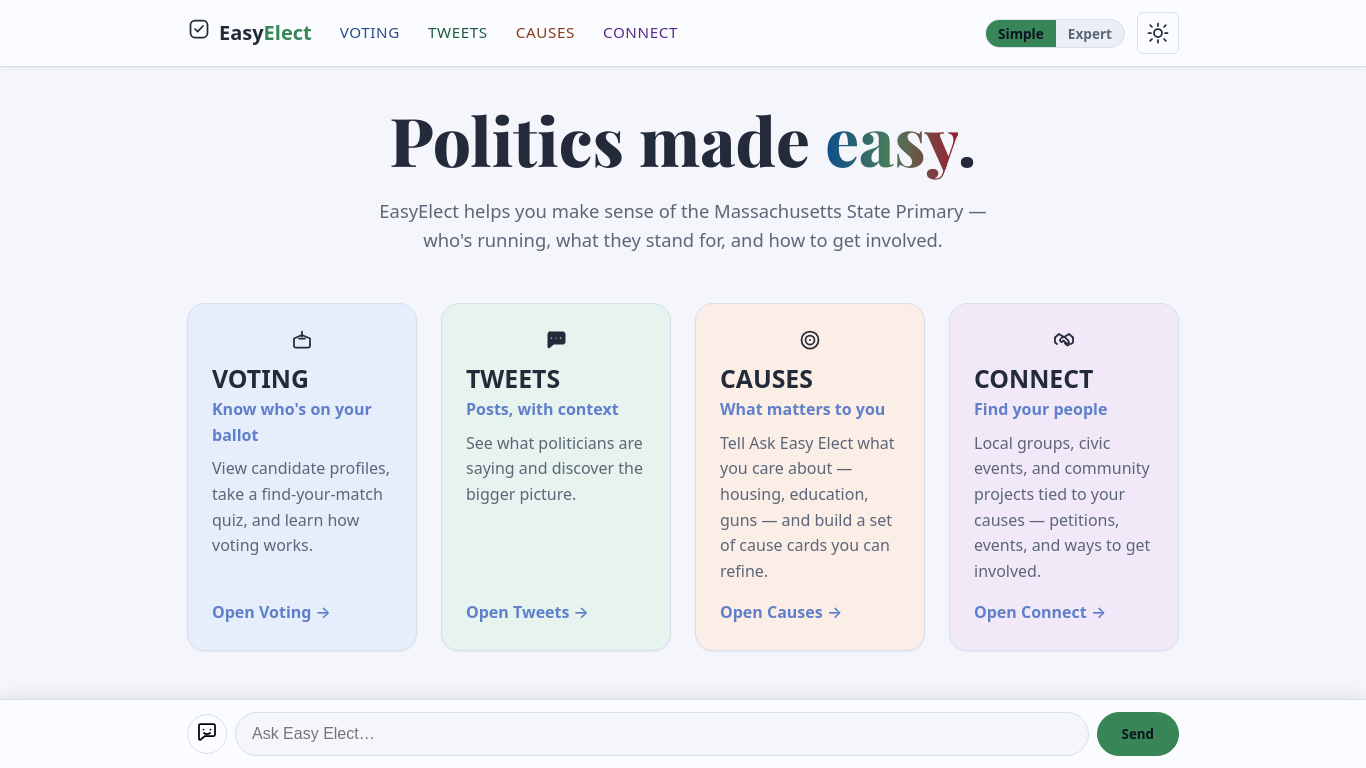
Behavior preservation — interactive controls (Req 9.2) › chatbot submit shows the user message and posts to /api/chat
The image size is (1366, 768).
Type "What is ranked choice voting?" into the field with placeholder "Ask Easy Elect…" at (662, 734), box [235, 712, 1089, 756]
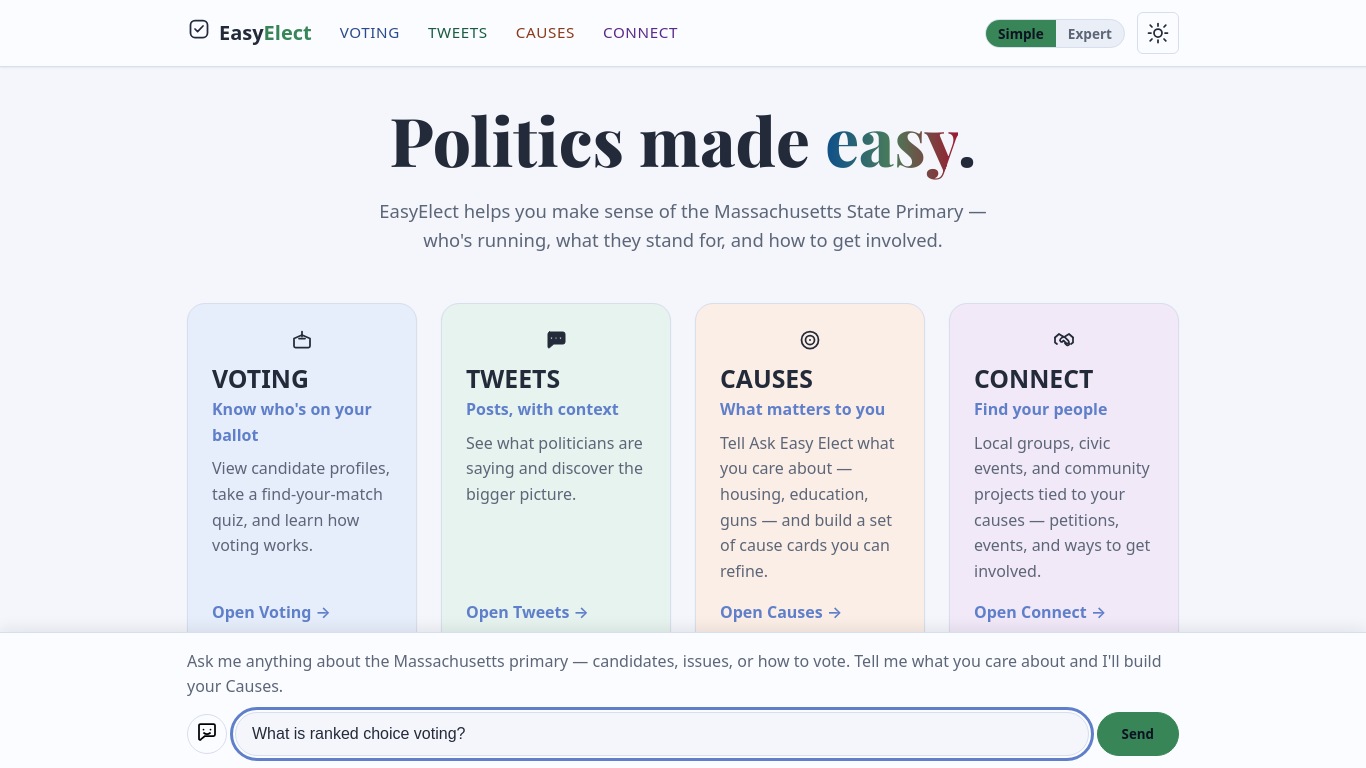
Press Enter
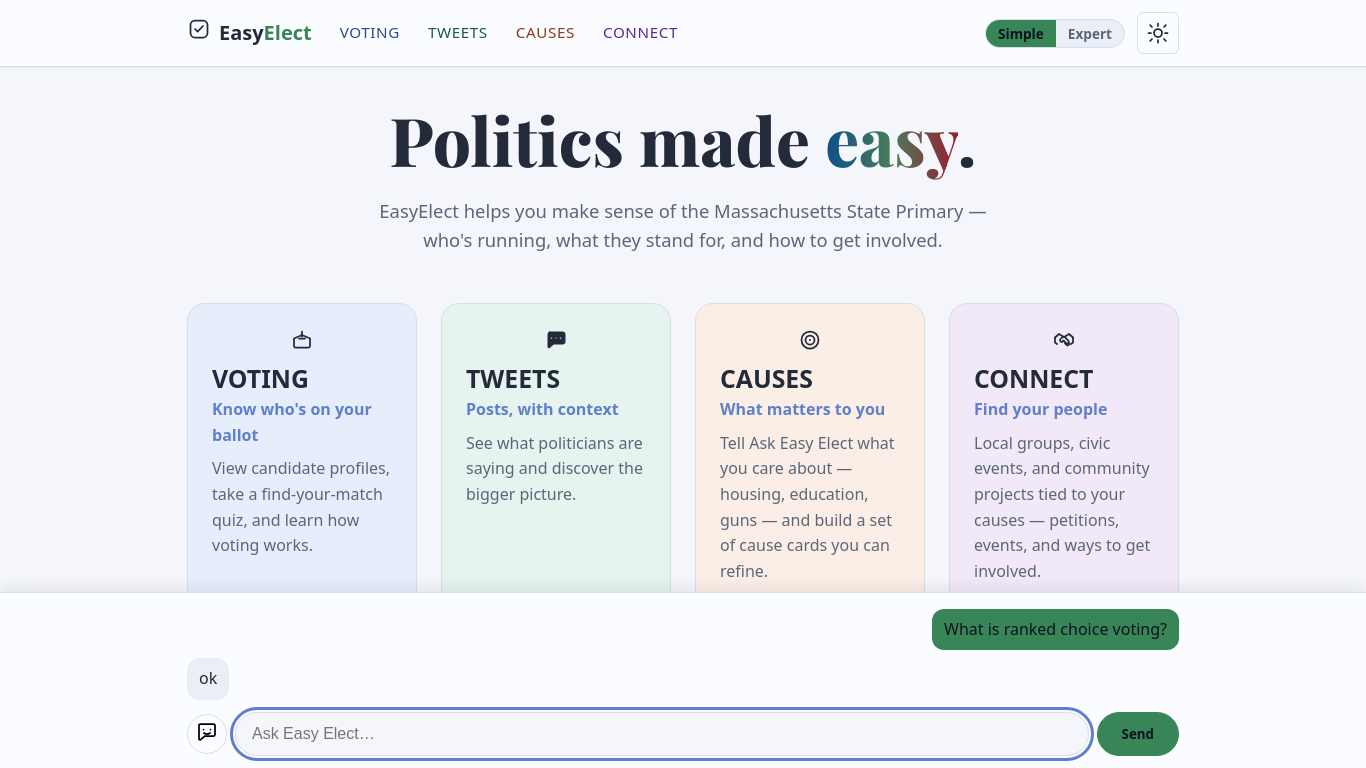
Now the text "What is ranked choice voting?" is shown, box [932, 609, 1179, 650]
Now the text "ok" is shown, box [187, 658, 229, 700]
